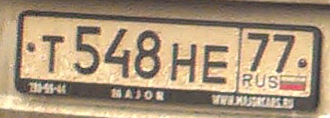character: (104, 25, 133, 82), (134, 24, 163, 81), (73, 24, 103, 77), (202, 36, 231, 86), (170, 39, 198, 85), (40, 30, 67, 72), (272, 32, 297, 75), (247, 32, 271, 72)
